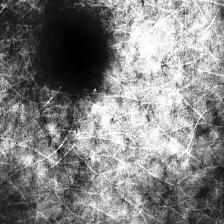Benign Marking or Mole: (46, 16, 107, 88)
